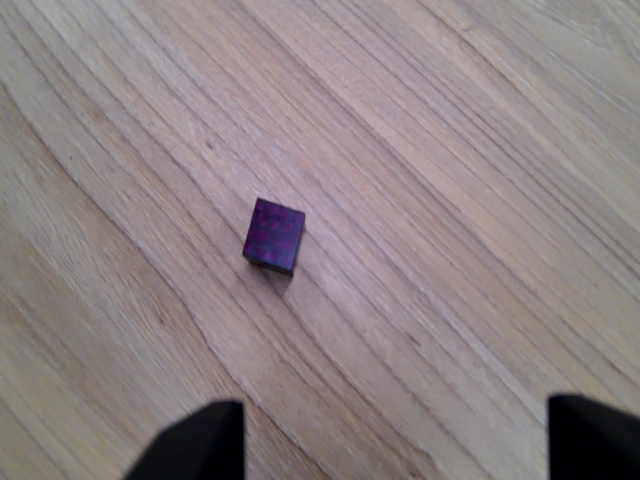brick: (238, 196, 308, 278)
